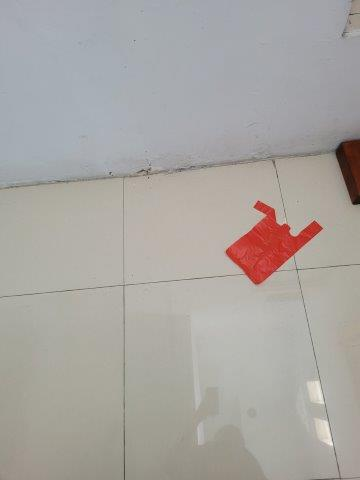plastik: (225, 201, 325, 284)
